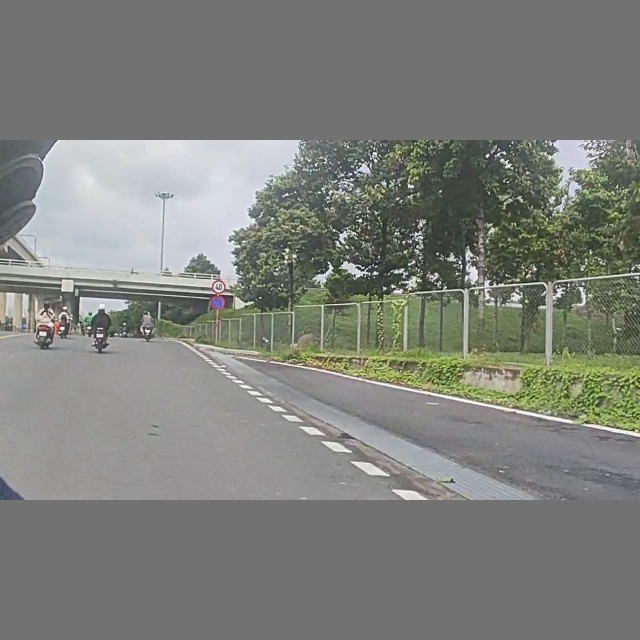P.127*40: (211, 280, 227, 294)
P.130: (210, 296, 225, 310)
